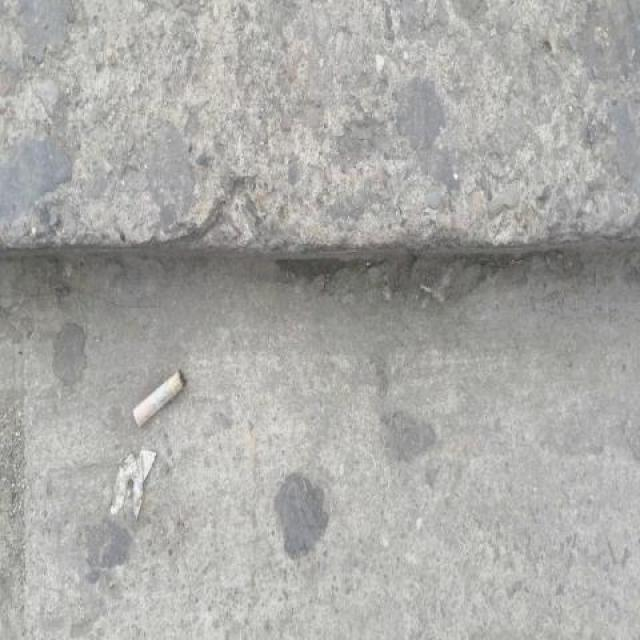non-organic waste: (128, 364, 191, 432)
